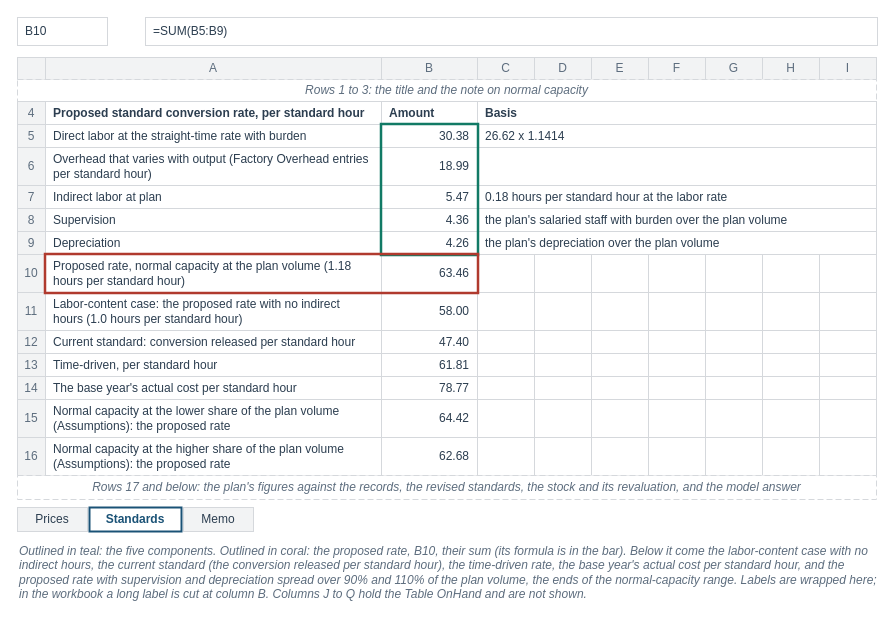
Image size: 895x625. Some labels were removed from this diagram. The shapes that lost their labels are listed below. From the top down, each one's centre as x and y in pixels, then its label:
(126,31): fx
(676,166): Requirement 2: varies with output at about the applied rate
